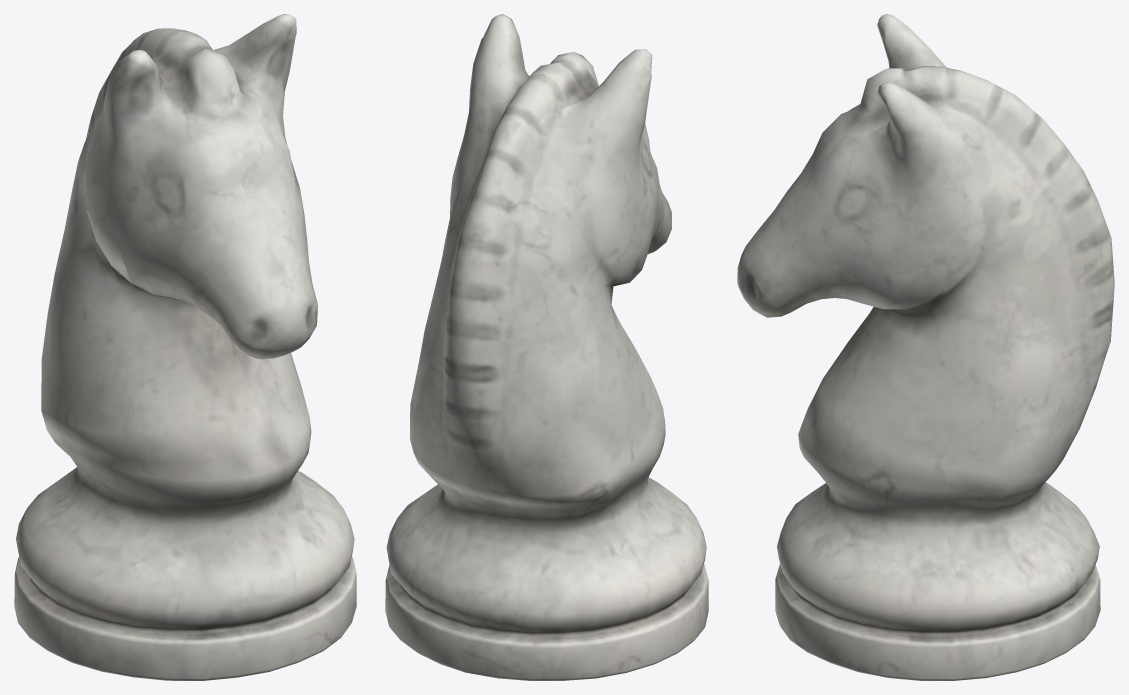
3 renders of one model, left to right at view 1: azimuth 30°, elevation 25°; view 2: azimuth 150°, elevation 25°; view 3: azimuth 270°, elevation 25°, orthographic. The views are drawn at different scales.
Parts seen in each view (by area): view 1: piece_knight_white_01; view 2: piece_knight_white_01; view 3: piece_knight_white_01.
Part boxes in pixels (bbox=[...]): piece_knight_white_01: bbox=[14, 14, 356, 680]; piece_knight_white_01: bbox=[385, 14, 708, 680]; piece_knight_white_01: bbox=[737, 14, 1114, 680].
Size of the model in its own units: 0.0388 by 0.075 by 0.0454.
1 material, 1 textured.
